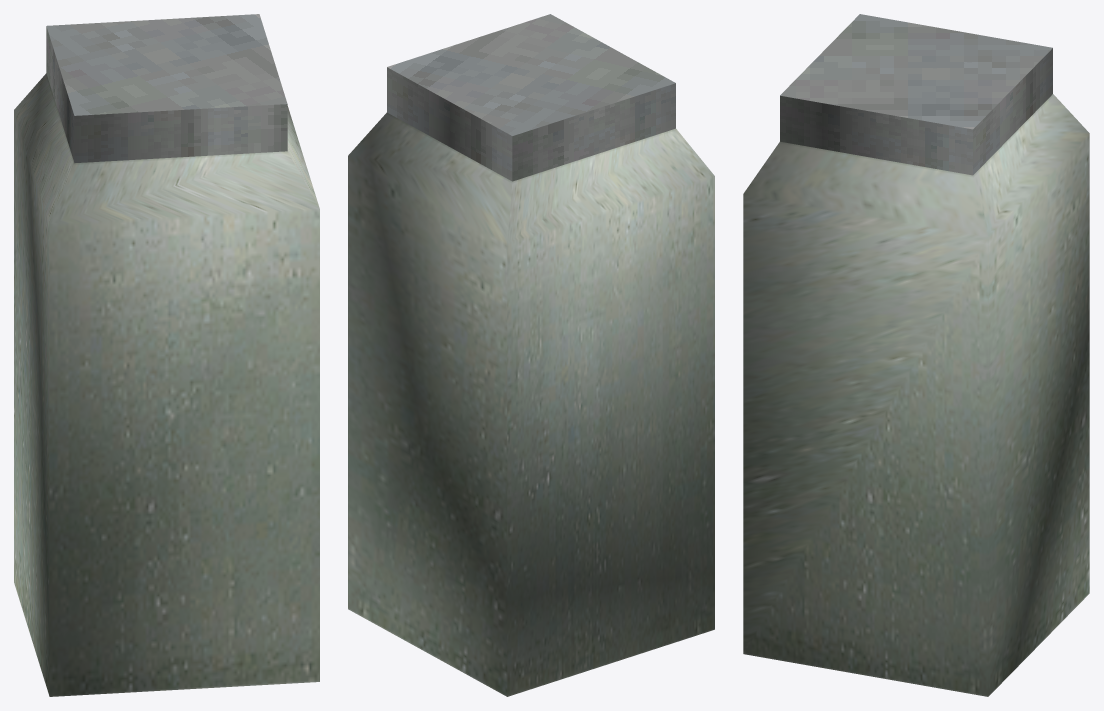
The model's file is edb_con_tato_jar_empty_s01_l2.fbx.
3 views of the same model, side by side, from view 1: azimuth 30°, elevation 25°; view 2: azimuth 150°, elevation 25°; view 3: azimuth 270°, elevation 25° (orthographic). The views are drawn at different scales.
Visible parts, largest first — view 1: mesh_node; view 2: mesh_node; view 3: mesh_node.
Boxes of the visible parts, x1,y1,x2,y2 form: mesh_node: (14, 14, 319, 696); mesh_node: (348, 14, 714, 696); mesh_node: (743, 14, 1089, 696).
Bounding box in the file's own units: 0.1707 × 0.3 × 0.1707.
2 materials, 2 textured.
